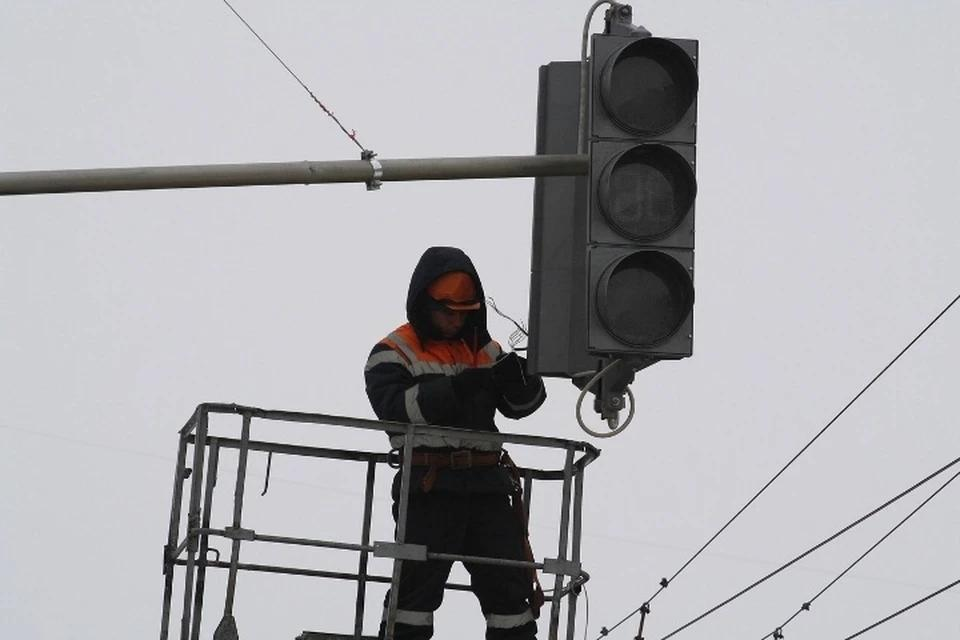off traffic light: (528, 6, 697, 417), (537, 62, 579, 154)
